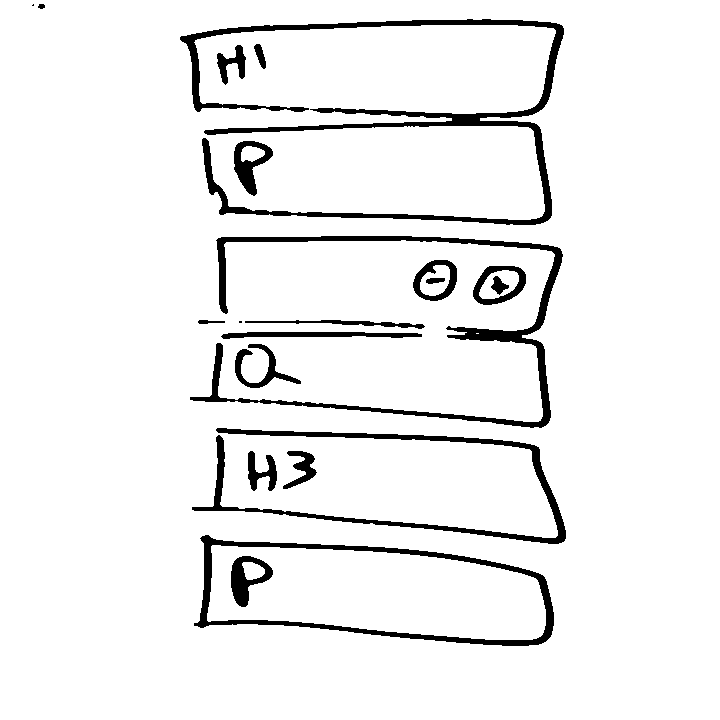heading1: (173, 16, 573, 119)
heading3: (186, 424, 573, 547)
inline stepper bar: (192, 230, 564, 342)
paragraph: (187, 531, 561, 648), (188, 119, 558, 231)
search bar: (189, 331, 558, 430)
